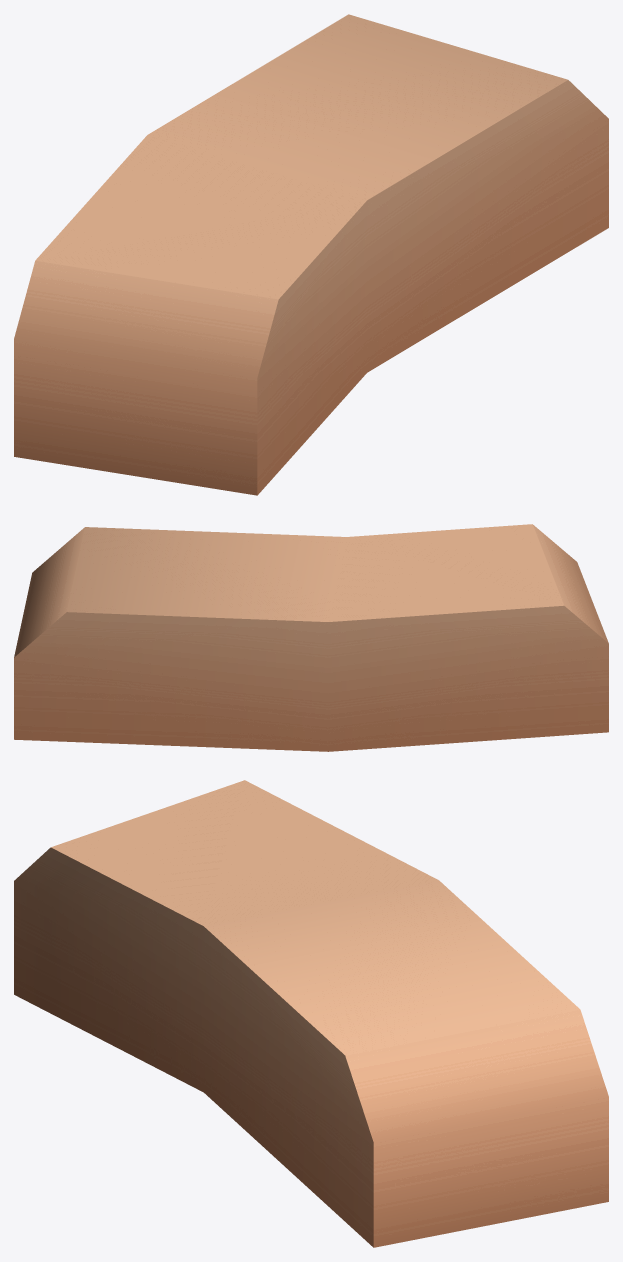
The model's file is arm-left.001_lev2.glb.
The picture shows the model from 3 angles, top to bottom: view 1: azimuth 30°, elevation 25°; view 2: azimuth 150°, elevation 25°; view 3: azimuth 270°, elevation 25°; orthographic projection. The views are drawn at different scales.
Parts seen in each view (by area): view 1: arm-left.001_lev2; view 2: arm-left.001_lev2; view 3: arm-left.001_lev2.
Part boxes in pixels (x1,y1,x2,y2): arm-left.001_lev2: (14, 14, 608, 495); arm-left.001_lev2: (14, 524, 608, 751); arm-left.001_lev2: (14, 780, 608, 1247).
Size of the model in its own units: 1.19 by 0.2885 by 0.9355.
1 material, 1 textured.
